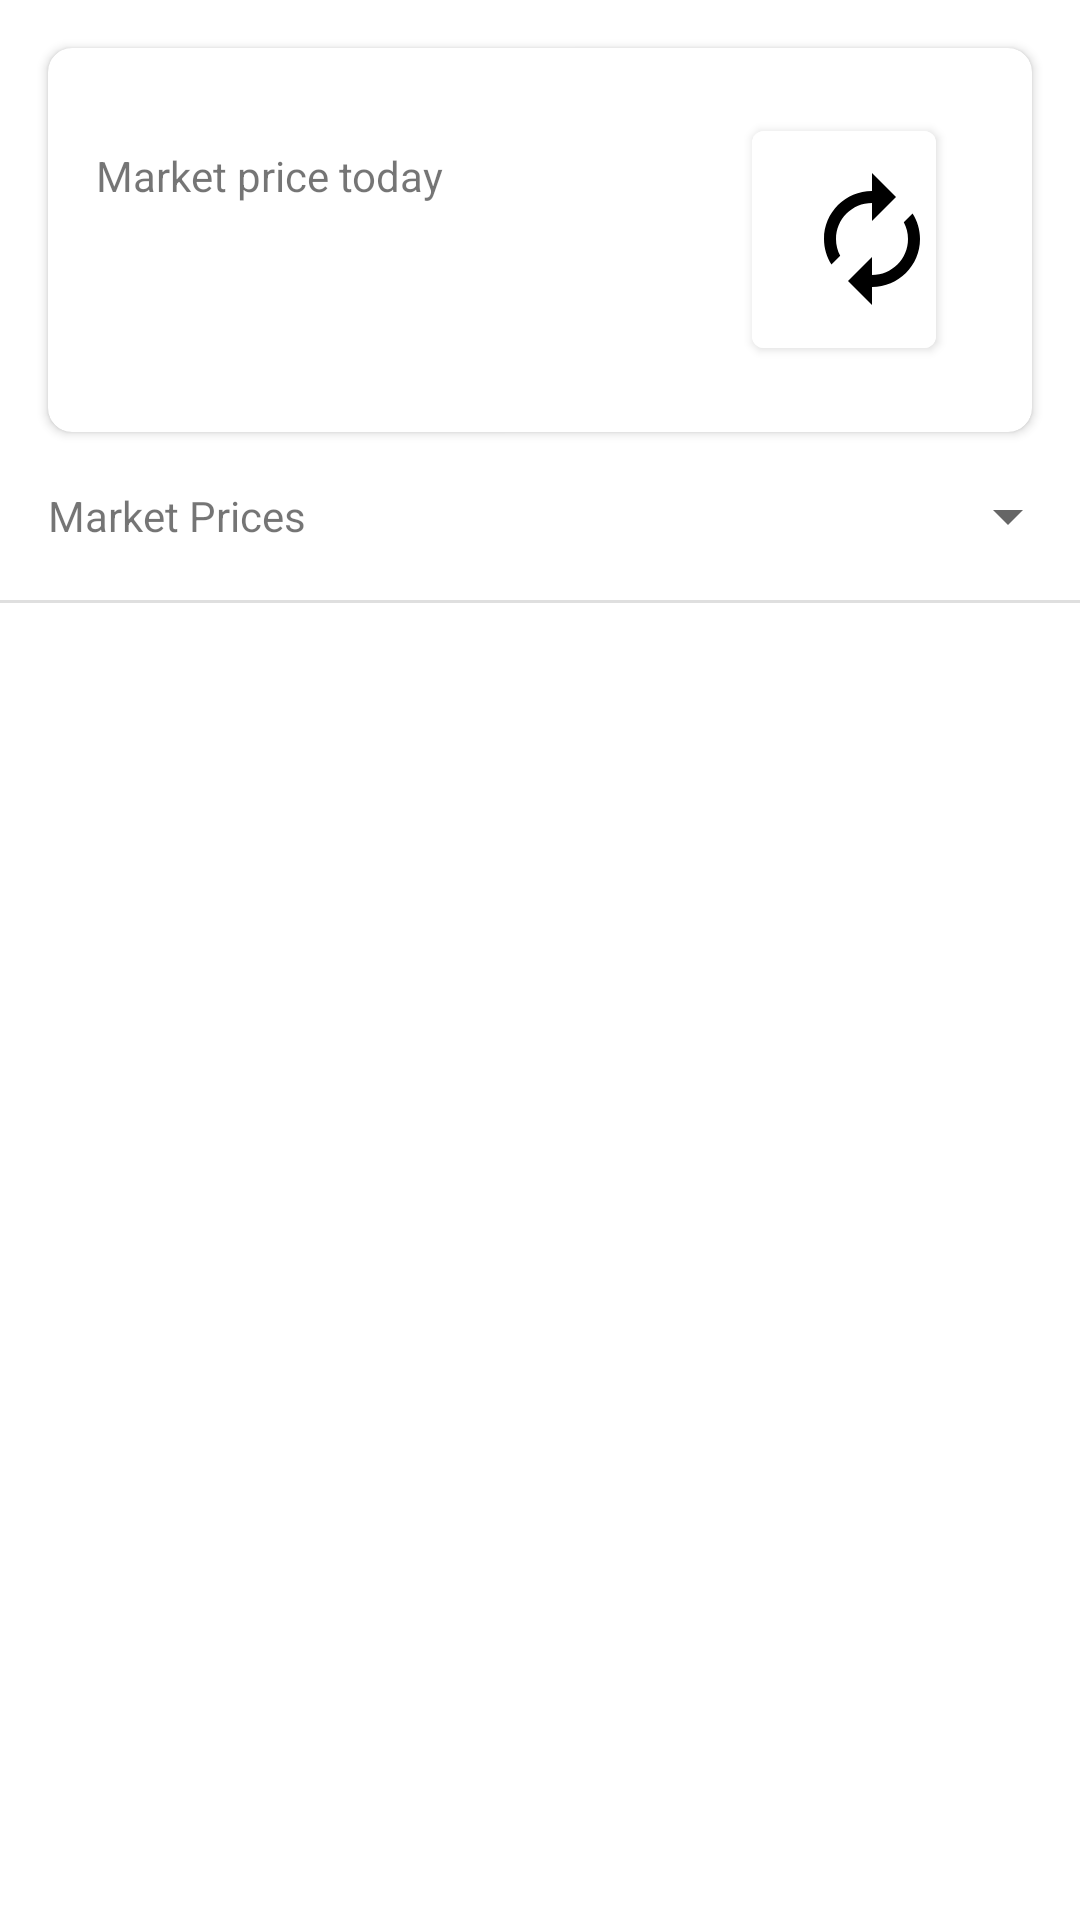

Named icons in this screenshot (1080*1920) and their centers, (x=x, y=y):
update: (x=872, y=239)
